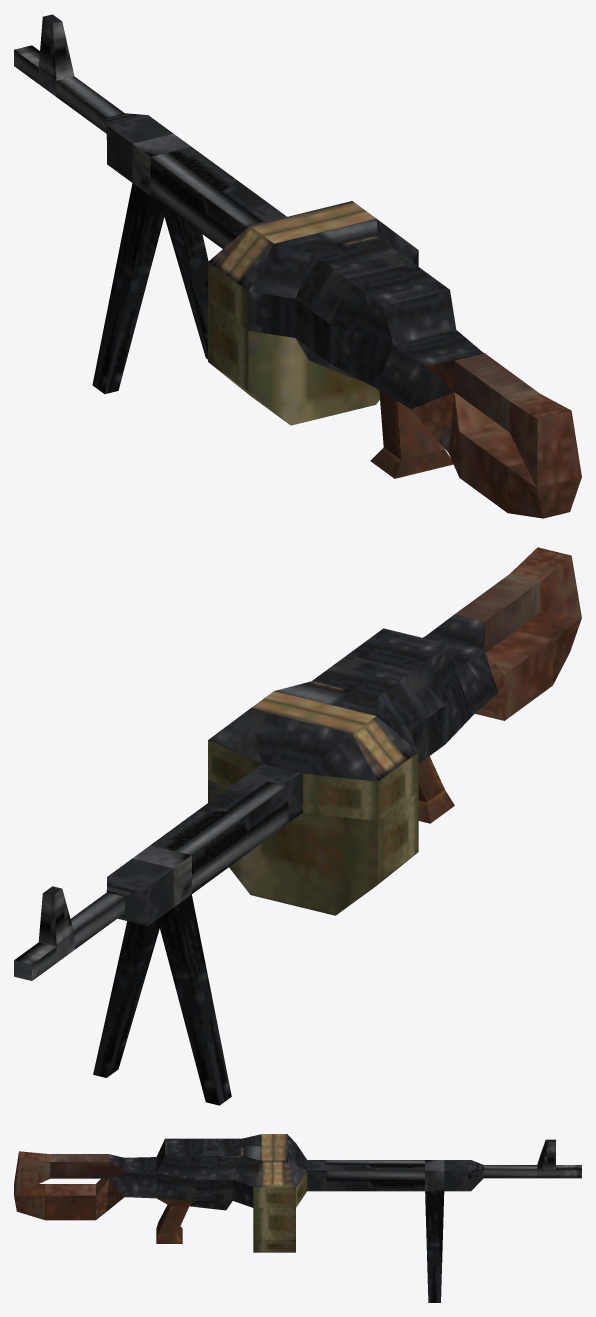
The model's file is Minigun.fbx.
3 views of the same model, one above another, from view 1: azimuth 30°, elevation 25°; view 2: azimuth 150°, elevation 25°; view 3: azimuth 270°, elevation 25° (orthographic). The views are drawn at different scales.
Parts seen in each view (by area): view 1: minigun; view 2: minigun; view 3: minigun.
Boxes of the visible parts, x1,y1,x2,y2 form: minigun: [14, 14, 581, 518]; minigun: [14, 547, 581, 1105]; minigun: [14, 1134, 581, 1302].
Bounding box in the file's own units: 1.09 × 1.68 × 5.95.
